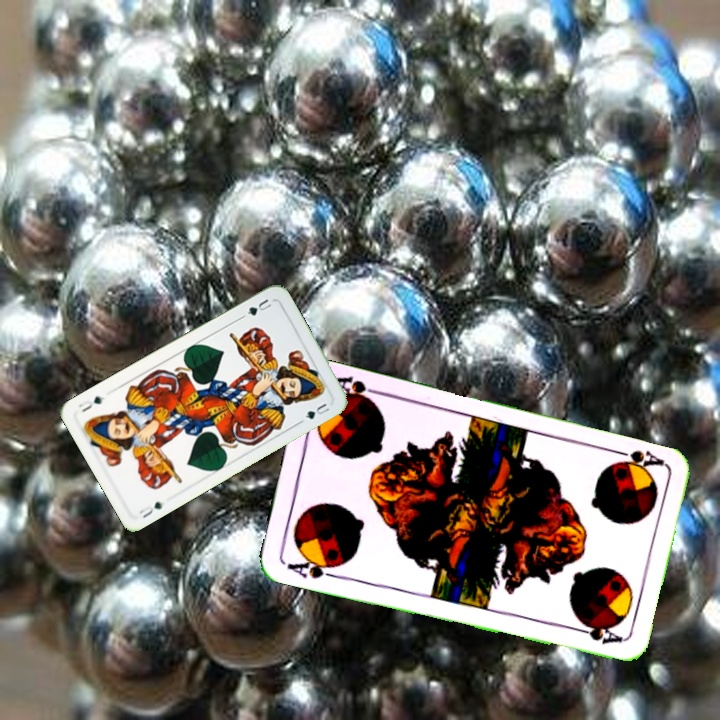GU: (135, 497, 167, 521), (243, 295, 274, 318)
SA: (282, 552, 342, 581), (607, 445, 666, 473)
